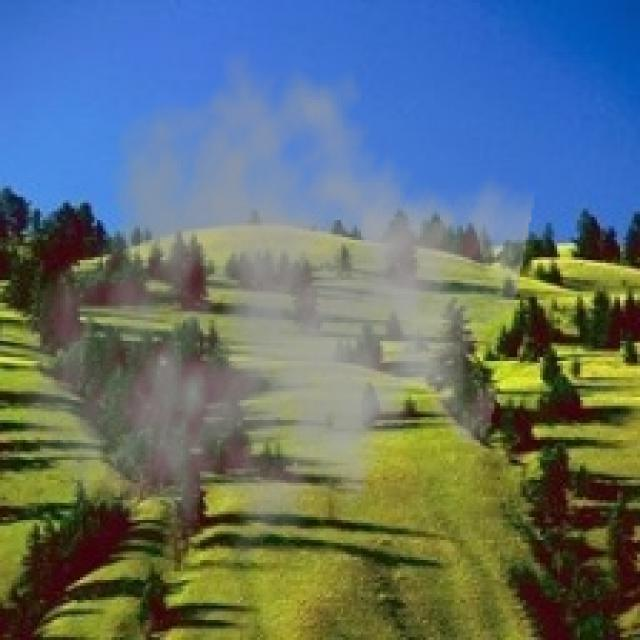Smoke: (14, 46, 537, 592)
